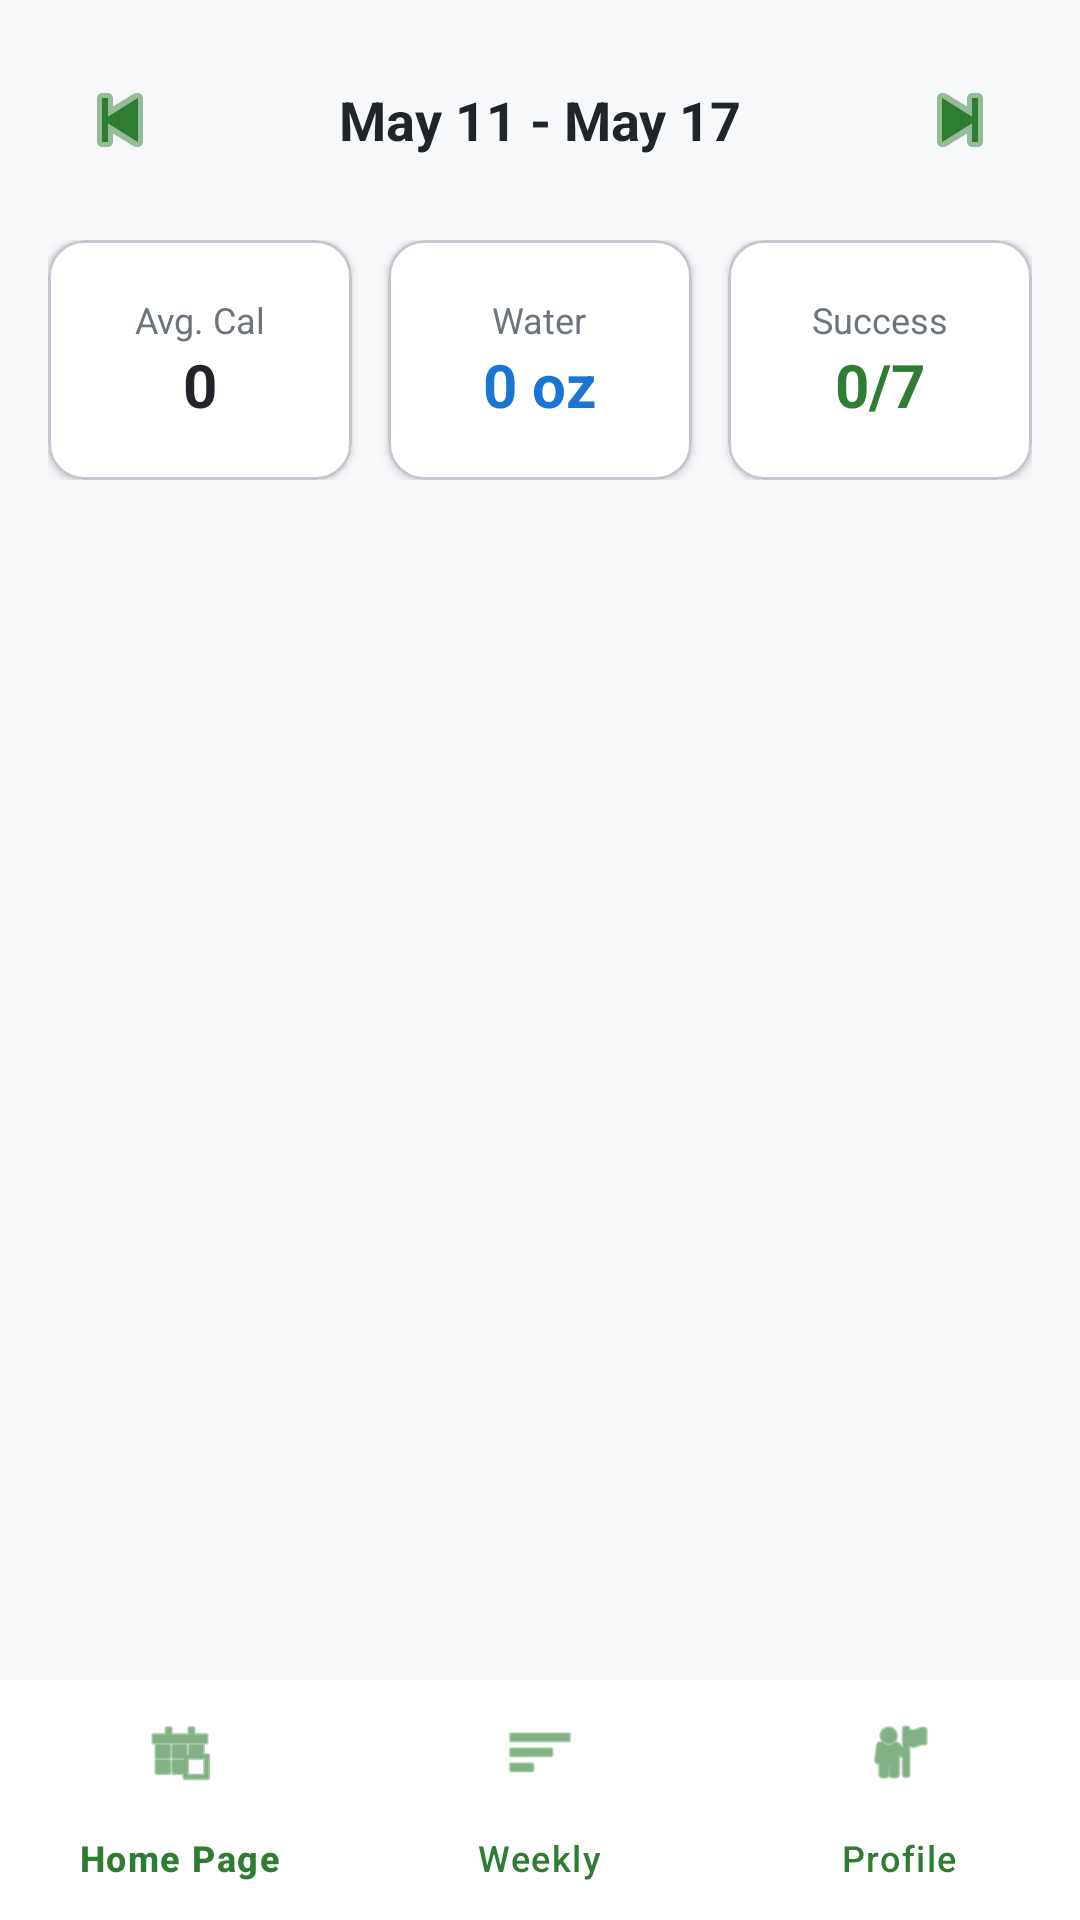

Icon bounding boxes for this 1080px x 1920px phone screenshot, format box(x1, y1, x2, y2):
next: box(937, 93, 983, 147)
previous: box(97, 93, 143, 147)
